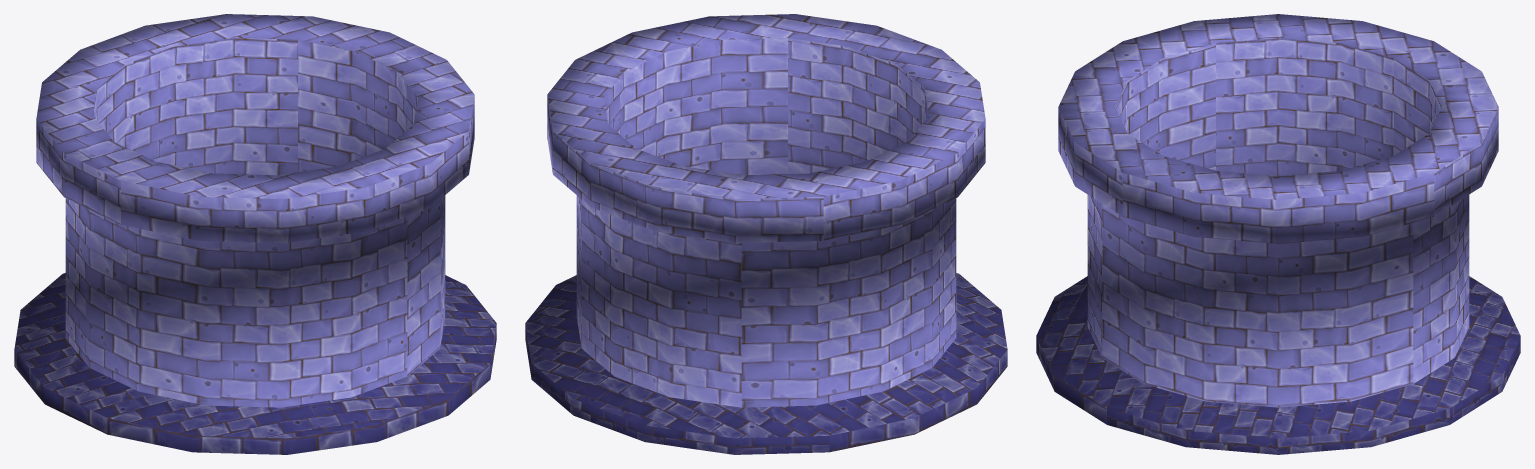
Rendered from Well.fbx.
The picture shows the model from 3 angles, left to right: view 1: azimuth 30°, elevation 25°; view 2: azimuth 150°, elevation 25°; view 3: azimuth 270°, elevation 25°; orthographic projection.
Parts seen in each view (by area): view 1: Cylinder; view 2: Cylinder; view 3: Cylinder.
Part boxes in pixels (x1,y1,x2,y2): Cylinder: (14,14,496,454); Cylinder: (525,14,1007,454); Cylinder: (1036,14,1520,454).
Bounding box in the file's own units: 524 × 293 × 524.
